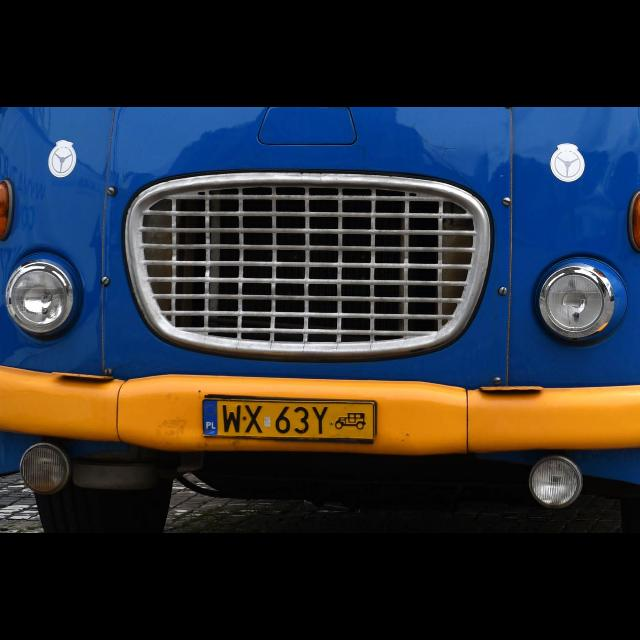pl_license_plate: (203, 400, 375, 440)
